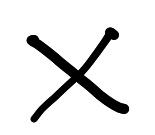mult: (27, 26, 129, 123)
